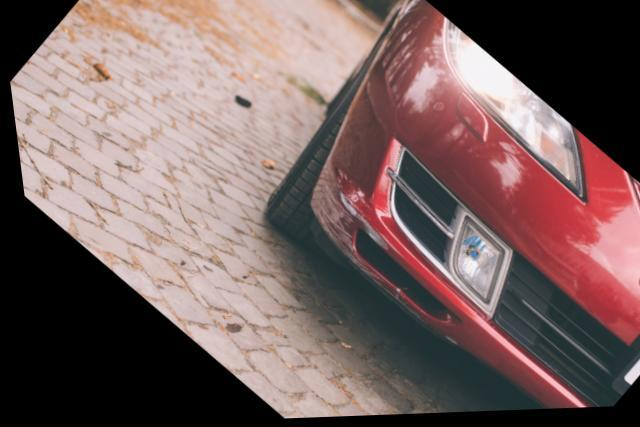scratch: (303, 171, 385, 291)
